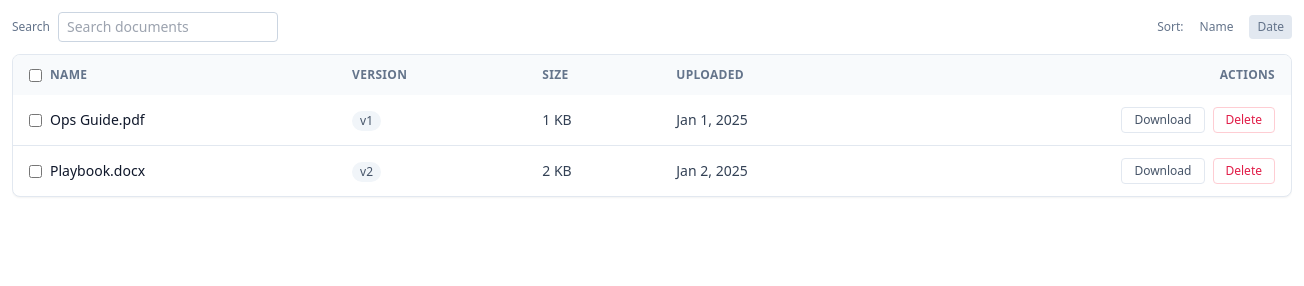
Test: DocumentList › shows bulk actions toolbar when documents are selected
This screenshot has width=1304, height=286.
Click the checkbox named "select ops guide" at (36, 120), box [29,114,42,126]
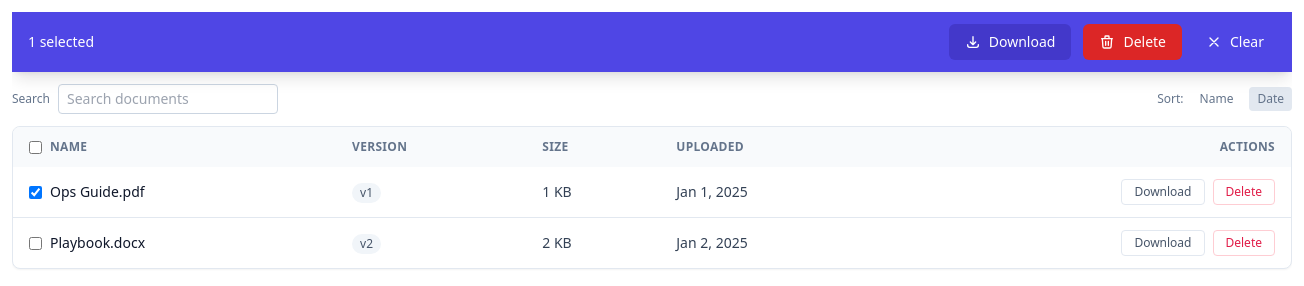
Click the checkbox named "select playbook" at (36, 243), box [29,236,42,250]
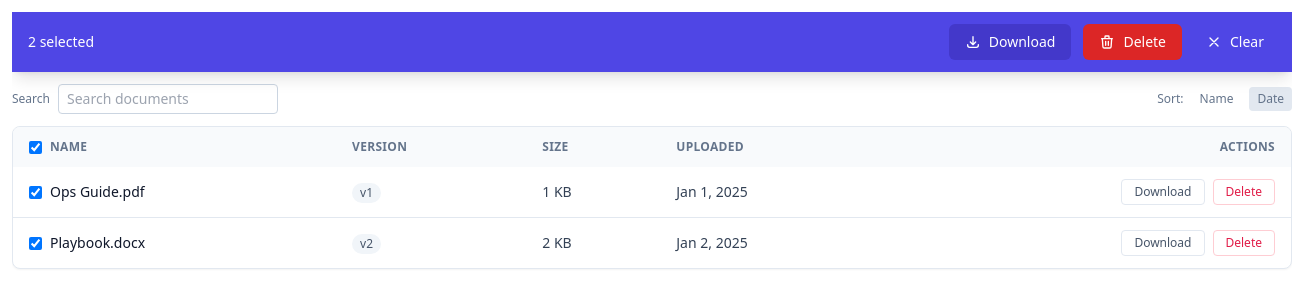
Now the text "2 selected" is shown, box [28,32,94,52]
Click the button with aria-label "clear selection" at (1235, 42), box [1194,24,1276,60]
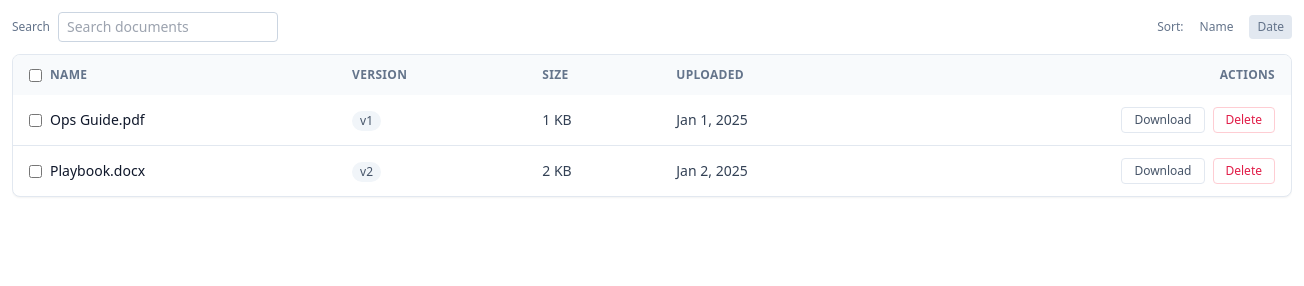
Now the text "selected" is gone
